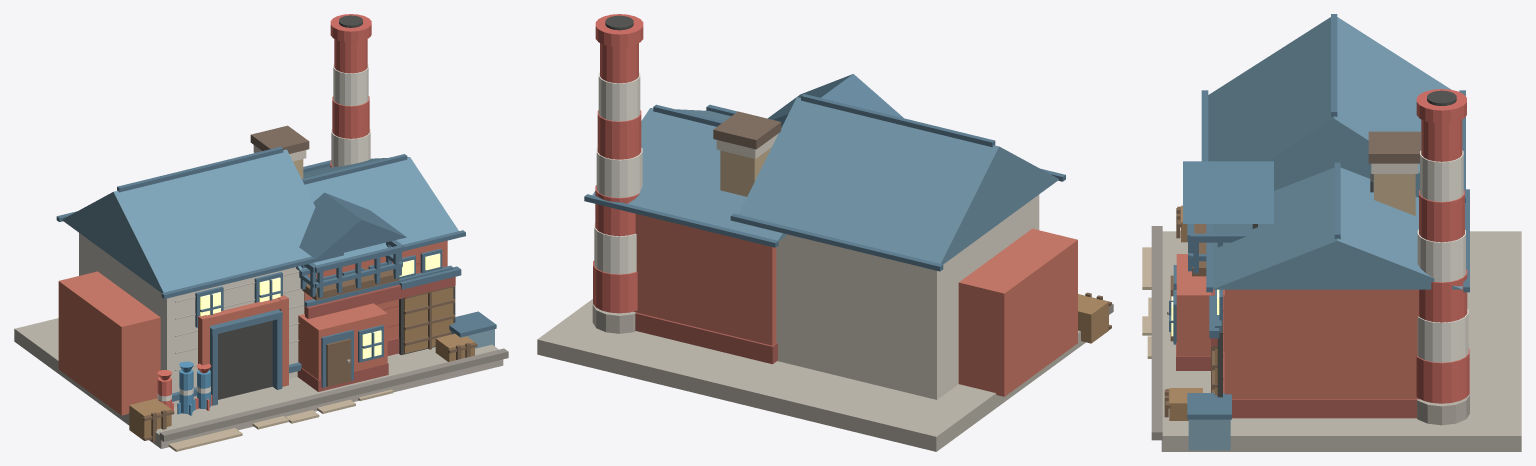
The model's file is fireworks_factory.glb.
The picture shows the model from 3 angles, left to right: view 1: azimuth 30°, elevation 25°; view 2: azimuth 150°, elevation 25°; view 3: azimuth 270°, elevation 25°; orthographic projection. The views are drawn at different scales.
Visible parts, largest first — view 1: MainRoof_blue_gabled_sheet_metal, MainBuilding_left_red_rear_volume, Foundation_main_factory_slab, MainBuilding_cream_tall_volume, RightWingRoof_blue_lower_gabled, BalconyRoof_blue_projecting_gable, Foundation_front_dark_edge, BayDoor_open_dark_interior, FrontEntry_red_lower_block, RightWing_LoadingDoor_brown_wood_panel, RightWing_red_header_band, RightWing_red_two_story_volume (+29 smaller); view 2: MainRoof_blue_gabled_sheet_metal, MainBuilding_cream_tall_volume, Foundation_main_factory_slab, MainBuilding_left_red_rear_volume, RightWing_red_two_story_volume, RightWingRoof_blue_lower_gabled, RightWing_dark_red_base_strip, BalconyRoof_blue_projecting_gable, Smokestack_band_white_3, Smokestack_band_red_0, MainRoof_back_blue_fascia, Smokestack_band_red_4 (+12 smaller); view 3: MainRoof_blue_gabled_sheet_metal, Foundation_main_factory_slab, RightWing_red_two_story_volume, RightWingRoof_blue_lower_gabled, BalconyRoof_blue_projecting_gable, RightWing_dark_red_base_strip, FrontEntry_red_lower_block, Foundation_front_dark_edge, Smokestack_band_red_0, Smokestack_band_white_1, Smokestack_band_white_3, Smokestack_band_red_4 (+22 smaller).
Part boxes in pixels (x1,y1,x2,y2): MainRoof_blue_gabled_sheet_metal: (62, 149, 315, 292); MainBuilding_left_red_rear_volume: (58, 271, 160, 415); Foundation_main_factory_slab: (14, 318, 503, 448); MainBuilding_cream_tall_volume: (79, 233, 304, 406); RightWingRoof_blue_lower_gabled: (296, 157, 458, 270); BalconyRoof_blue_projecting_gable: (299, 192, 406, 259); Foundation_front_dark_edge: (159, 348, 508, 441); BayDoor_open_dark_interior: (218, 320, 272, 399); FrontEntry_red_lower_block: (298, 303, 387, 379); RightWing_LoadingDoor_brown_wood_panel: (404, 287, 453, 353); RightWing_red_header_band: (305, 277, 455, 318); RightWing_red_two_story_volume: (304, 240, 447, 340); MainRoof_blue_gabled_sheet_metal: (738, 97, 1058, 264); MainBuilding_cream_tall_volume: (776, 194, 1039, 399); Foundation_main_factory_slab: (537, 299, 1085, 451); MainBuilding_left_red_rear_volume: (958, 228, 1077, 396); RightWing_red_two_story_volume: (633, 214, 776, 345); RightWingRoof_blue_lower_gabled: (592, 108, 785, 240); RightWing_dark_red_base_strip: (635, 313, 777, 364); BalconyRoof_blue_projecting_gable: (767, 74, 903, 127); Smokestack_band_white_3: (596, 148, 642, 197); Smokestack_band_red_0: (593, 260, 637, 313); MainRoof_back_blue_fascia: (730, 213, 943, 271); Smokestack_band_red_4: (597, 110, 641, 159); MainRoof_blue_gabled_sheet_metal: (1208, 17, 1451, 197); Foundation_main_factory_slab: (1161, 231, 1521, 451); RightWing_red_two_story_volume: (1224, 289, 1419, 399); RightWingRoof_blue_lower_gabled: (1213, 167, 1462, 289); BalconyRoof_blue_projecting_gable: (1183, 161, 1273, 223); RightWing_dark_red_base_strip: (1223, 351, 1416, 418); FrontEntry_red_lower_block: (1176, 254, 1224, 356); Foundation_front_dark_edge: (1151, 226, 1162, 440); Smokestack_band_red_0: (1416, 348, 1469, 403); Smokestack_band_white_1: (1417, 309, 1468, 362); Smokestack_band_white_3: (1417, 229, 1465, 282); Smokestack_band_red_4: (1419, 190, 1464, 242).
Bounding box in the file's own units: 7.49 × 5.45 × 5.63.
